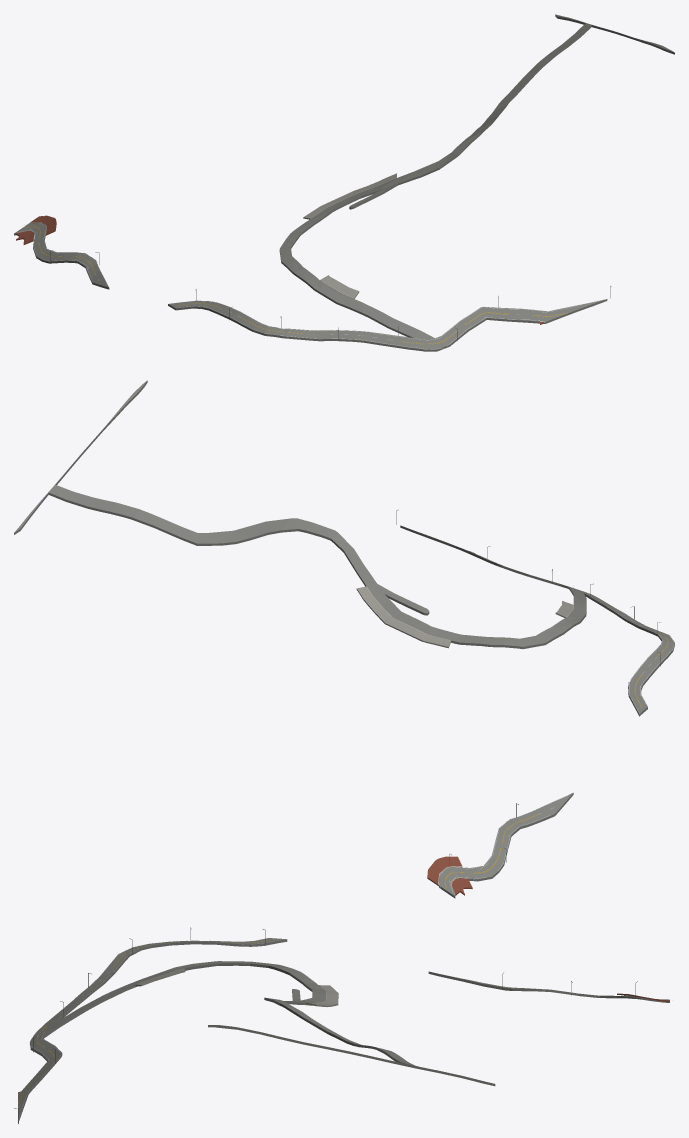
Rendered from 17-109446-59465.eadcfd9c.glb.
3 views of the same model, one above another, from view 1: azimuth 30°, elevation 25°; view 2: azimuth 150°, elevation 25°; view 3: azimuth 270°, elevation 25° (orthographic). The views are drawn at different scales.
Bounding box in the file's own units: 294 × 125 × 296.
